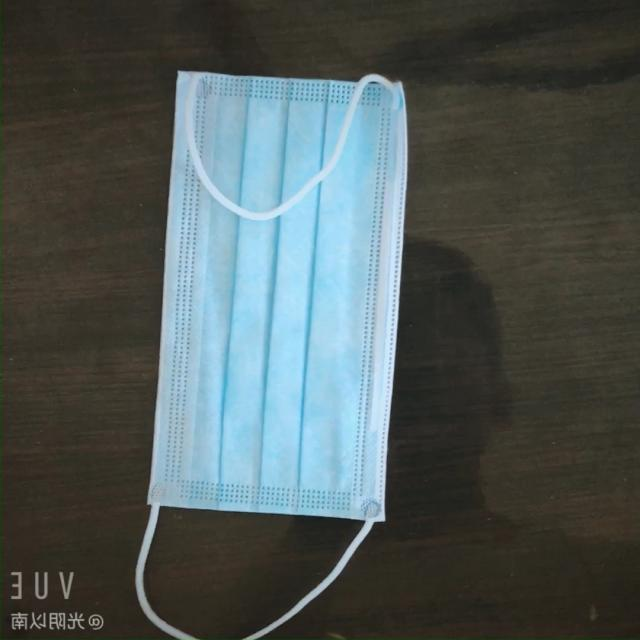face mask: (162, 64, 414, 538)
